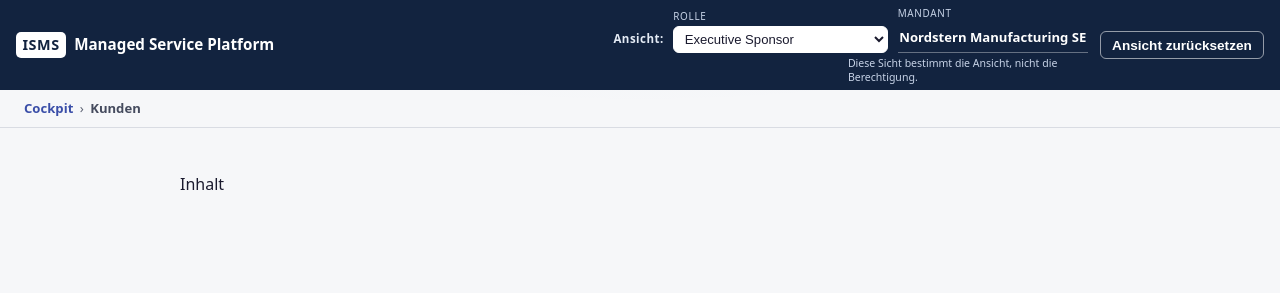
Test: AppShell – Rollenwechsel als sichtbarer Moduswechsel (Dok. 06 „Rollenwechsel") › wechselt direkt, meldet den Moduswechsel aber benannt zurück (alte und neue Rolle)
This screenshot has width=1280, height=293.
Select "Auditor / Assurance Reviewer" in the dropdown named "Ansicht: Rolle" at (781, 39), box [673, 26, 888, 53]
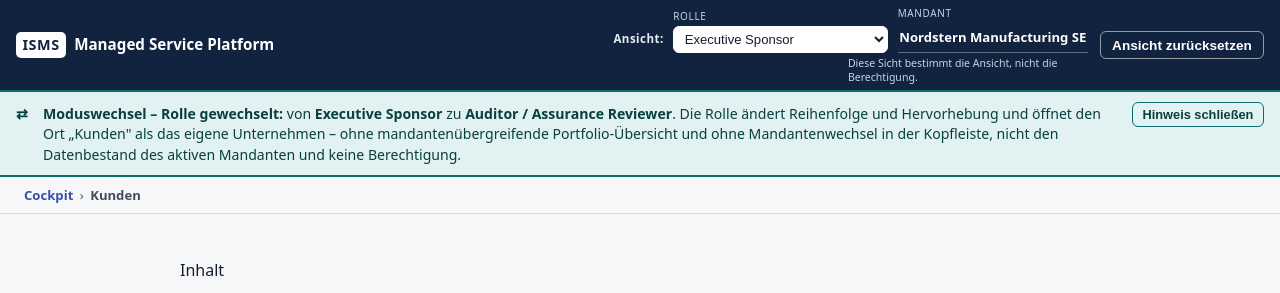
expect the message shows "Moduswechsel": met, box [43, 104, 161, 123]
expect the message shows "Executive Sponsor": met, box [315, 104, 442, 123]
expect the message shows "Auditor": met, box [465, 104, 672, 123]
